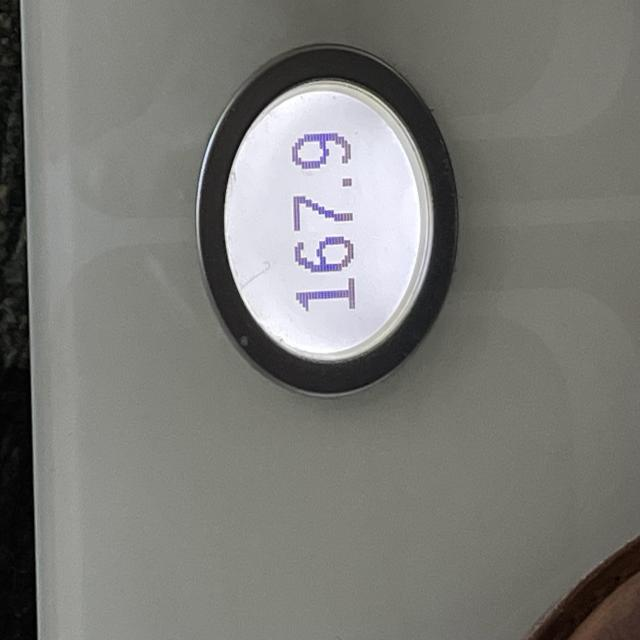ws: (196, 46, 459, 399)
